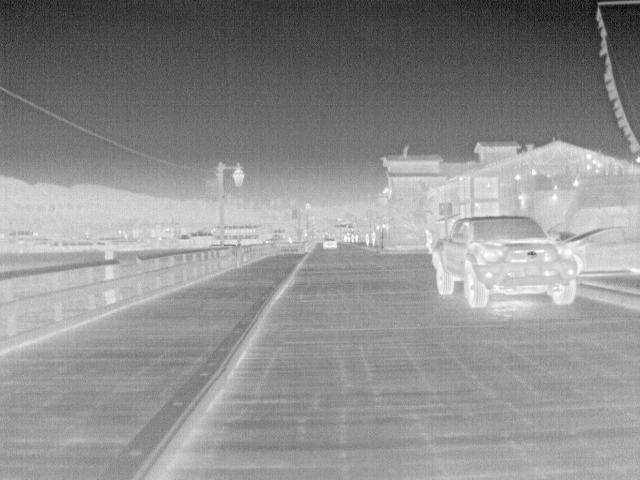car: (431, 215, 578, 309), (558, 219, 640, 274), (323, 236, 337, 250)
person: (422, 228, 436, 255), (371, 230, 378, 246), (364, 232, 372, 246)
